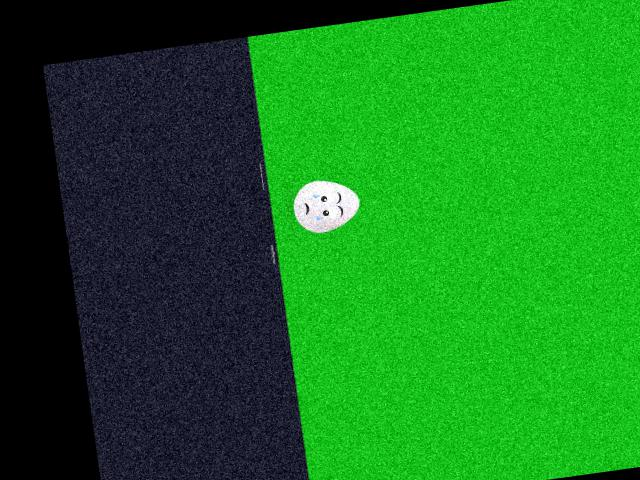egg: (290, 175, 362, 236)
